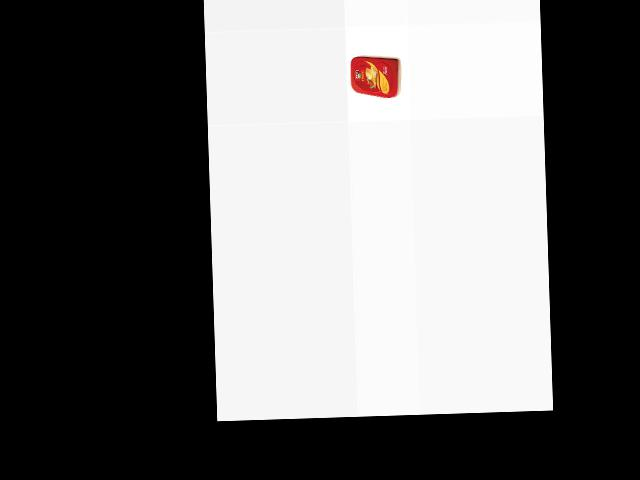cheese: (347, 53, 401, 99)
